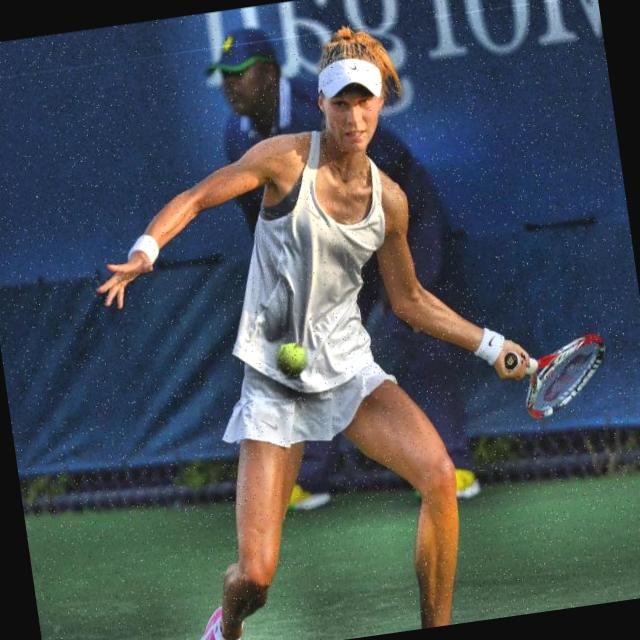Tennis Ball: (276, 342, 310, 380)
